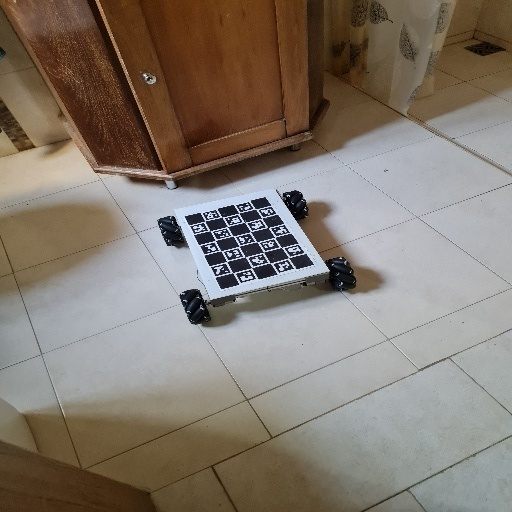Omniwheel: (155, 187, 359, 326)
